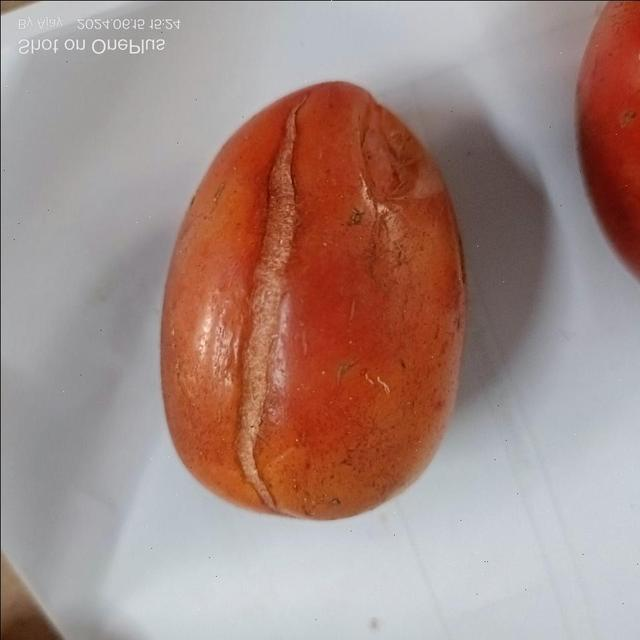Cracking Fruit: (92, 163, 292, 234)
